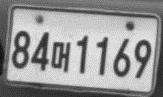1: (75, 34, 89, 74), (95, 35, 109, 75)
4: (30, 31, 49, 70)
6: (112, 37, 131, 77)
8: (11, 30, 30, 69)
9: (134, 38, 152, 78)
머: (50, 40, 71, 72)
